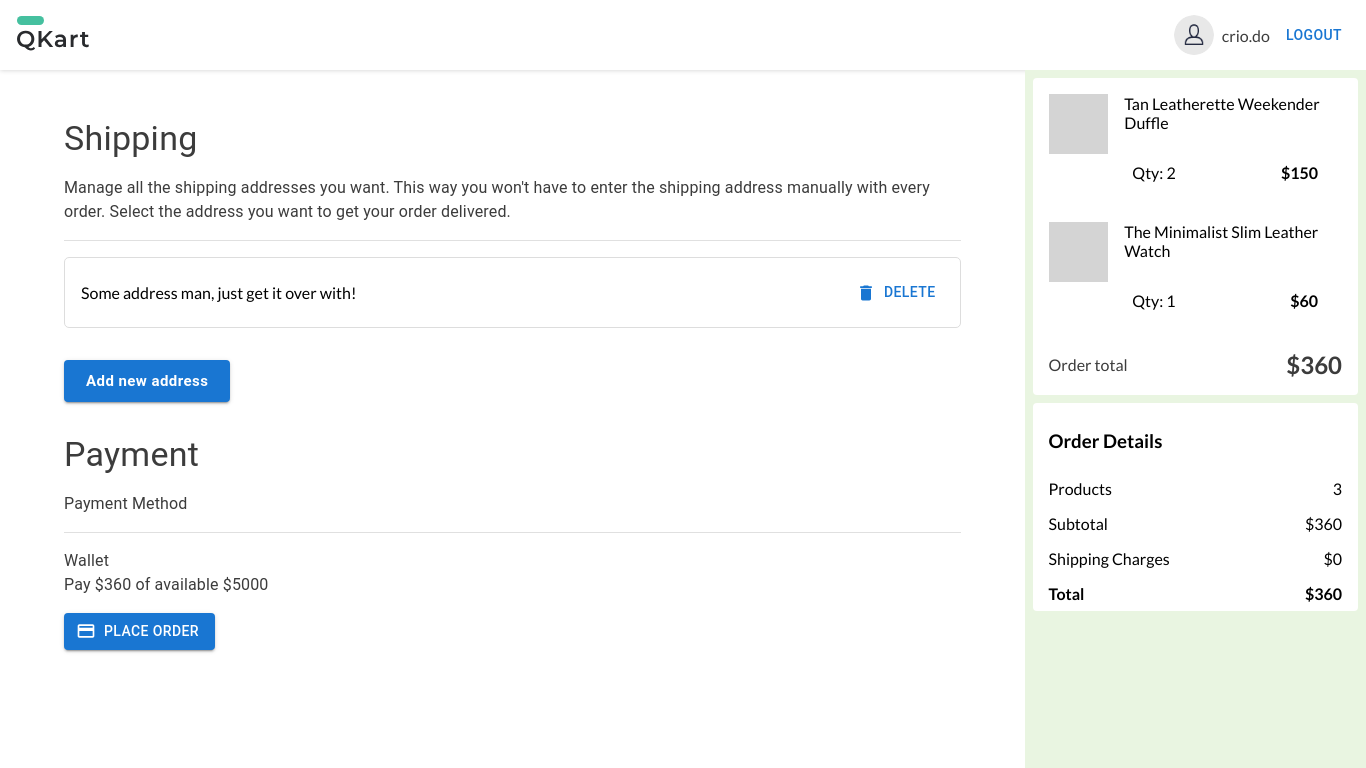
Test: Checkout Page › should show error message if low balance
This screenshot has width=1366, height=768.
Step 1. Click the text "Some address man, just get it over with!" → (219, 293), box 81,283 -> 356,302
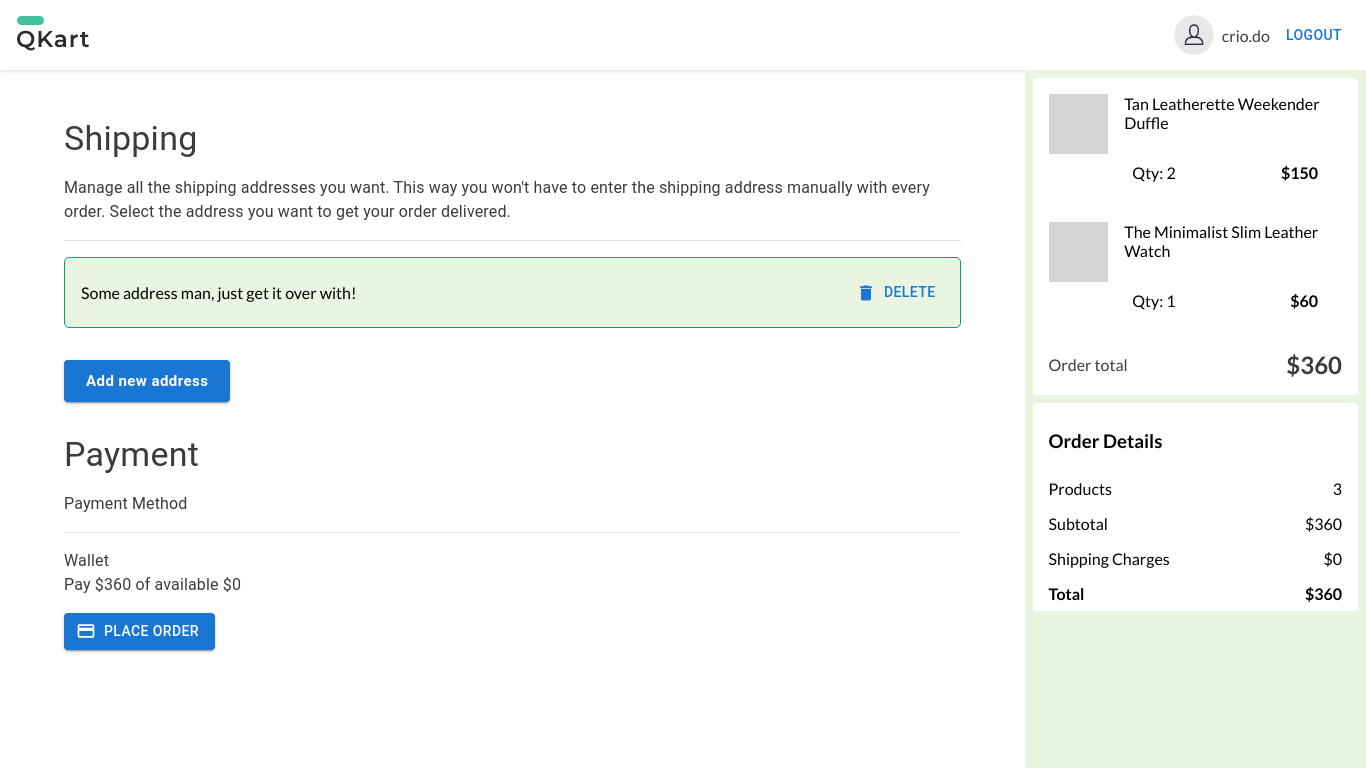
Step 2. Click the button "PLACE ORDER" → (140, 631), box 64,613 -> 215,650
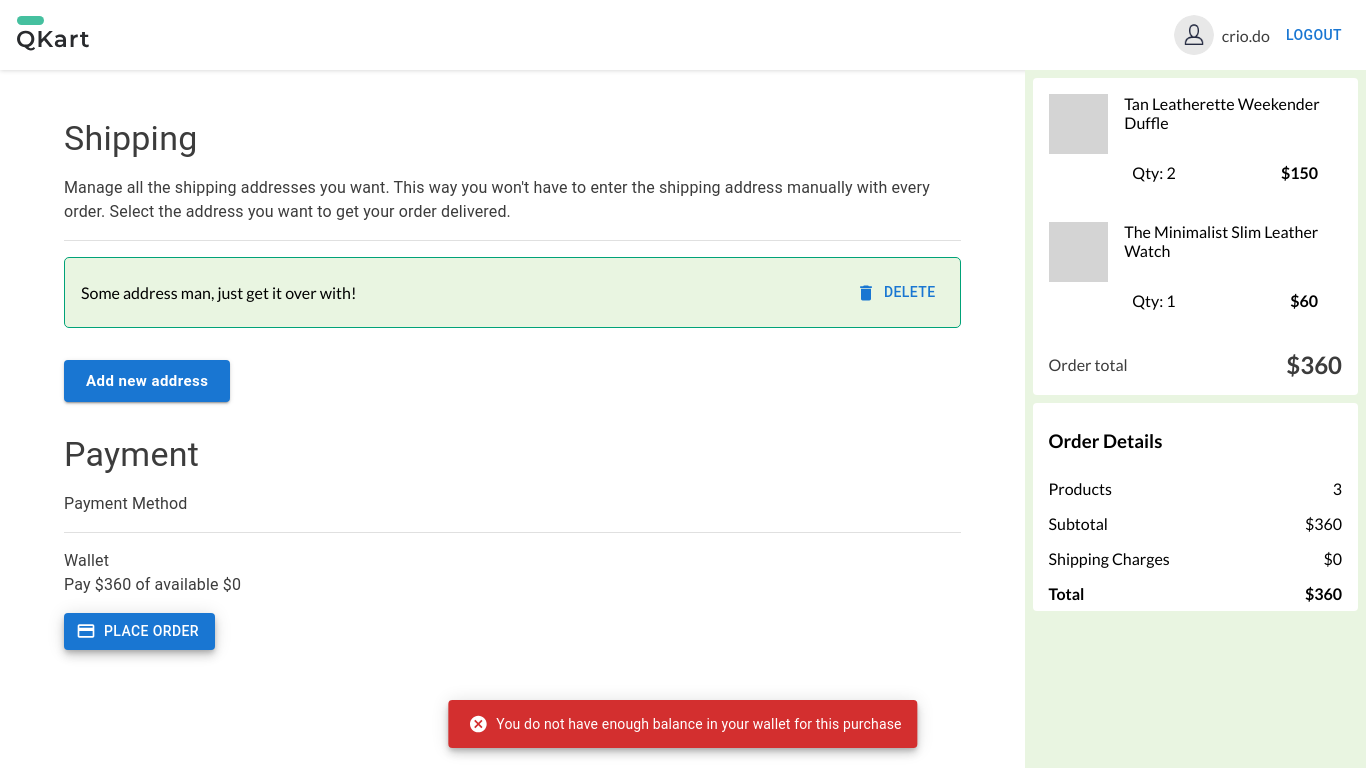
Now the message shows "not have enough balance", box 496,716 -> 902,732
